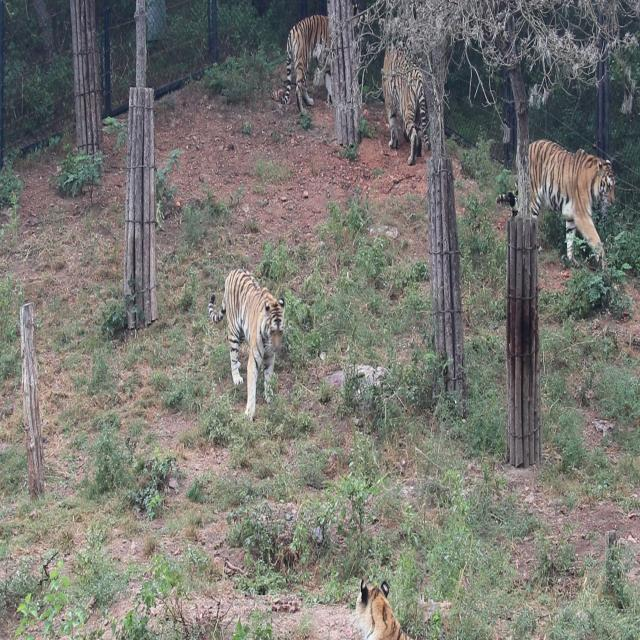Tiger: (505, 123, 615, 290), (199, 267, 296, 420), (281, 11, 350, 121), (380, 41, 440, 163), (354, 572, 411, 639)
